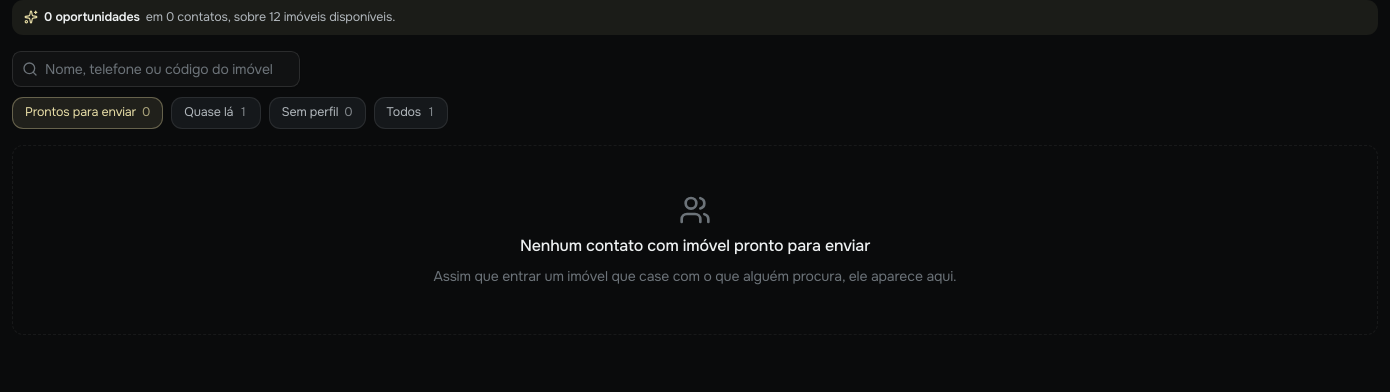
Test case: aba de Oportunidades › no 'quase', diz o que falta em vez de esconder o imóvel
Click the button "Quase lá 1" at (216, 113), box [171,97,260,129]
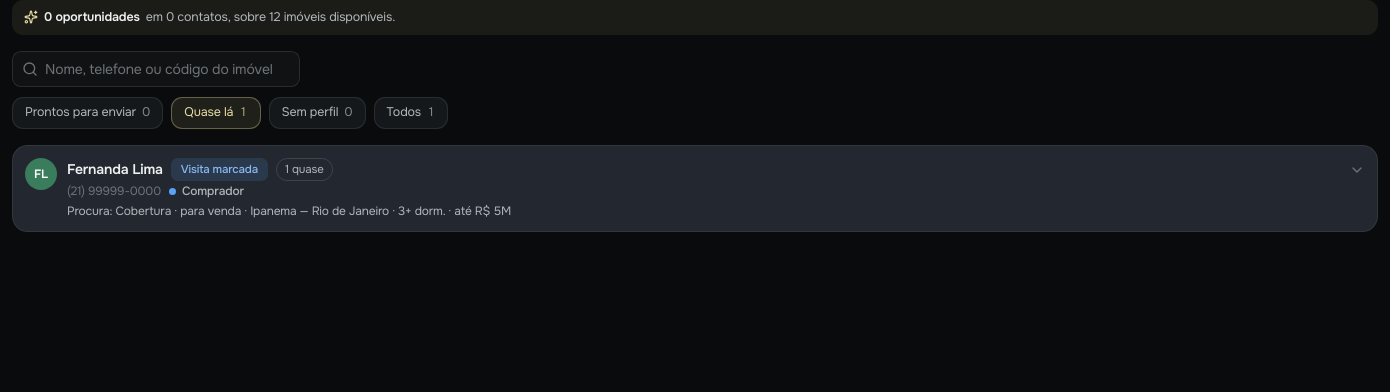
Click the text "Fernanda Lima" at (115, 169), box [67,159,163,179]
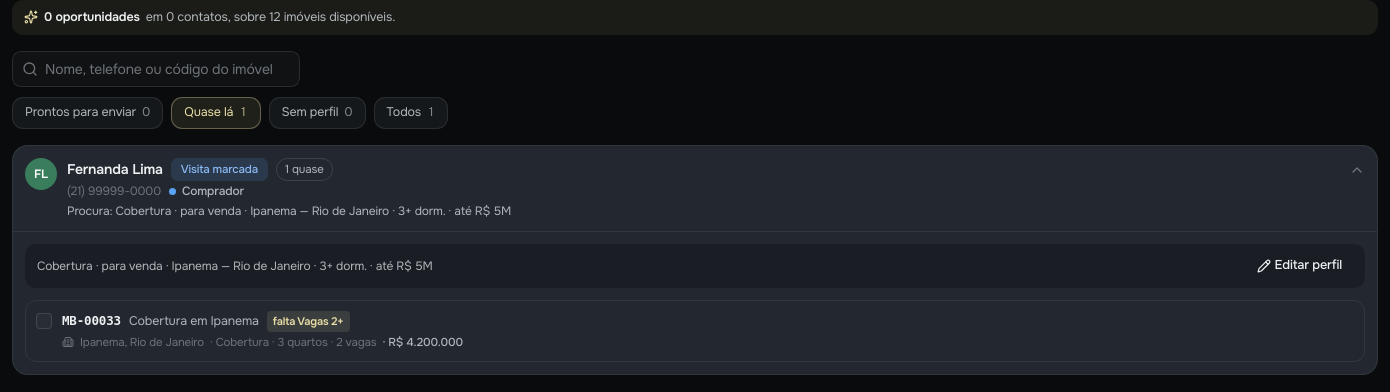
expect the text "falta Vagas 2+" is shown: met, box [267,311,350,332]
